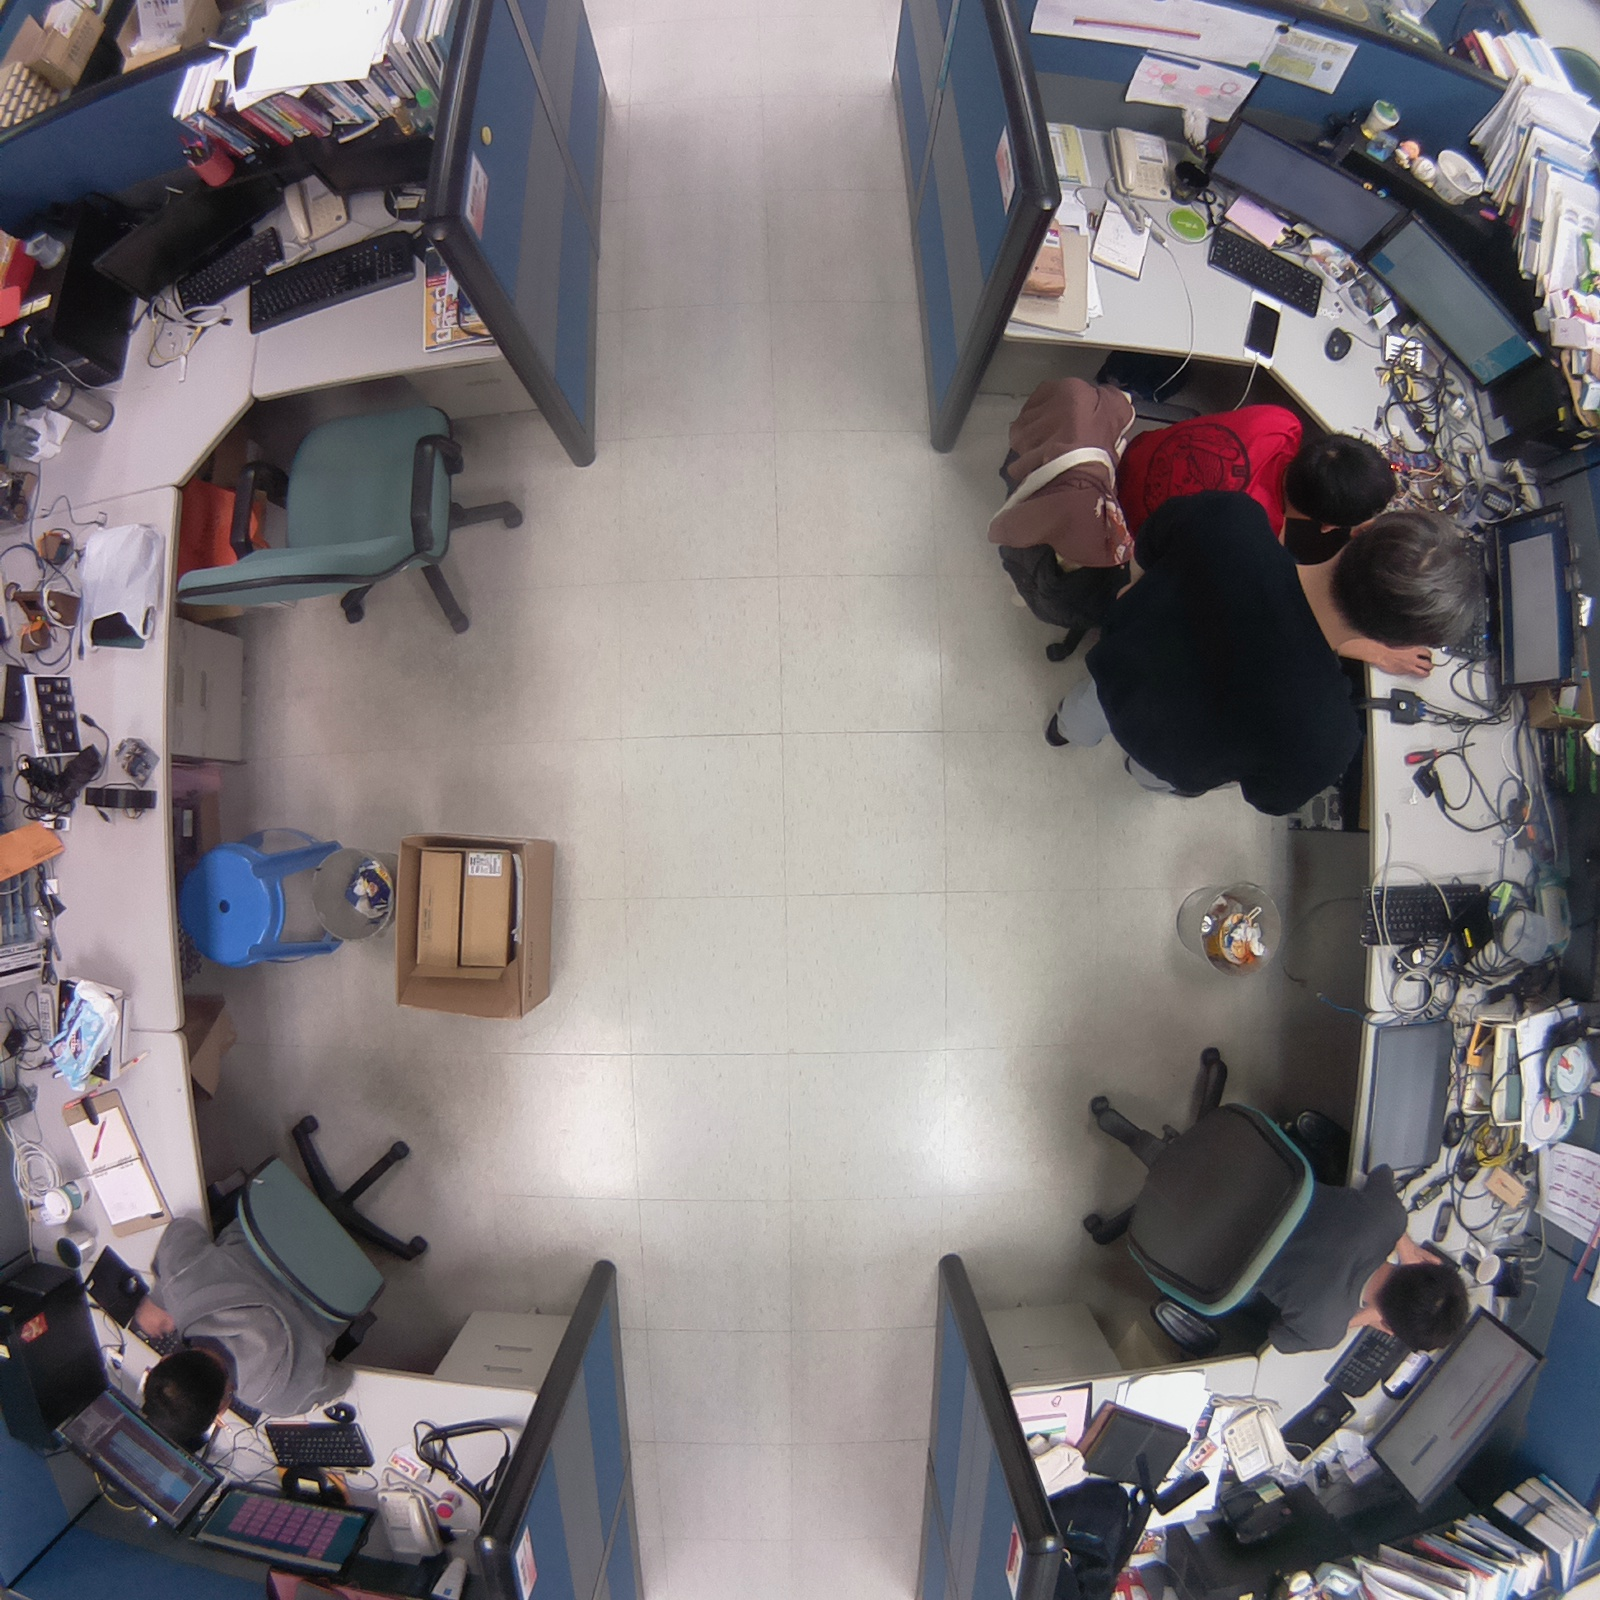chair: (160, 347, 545, 675)
head: (1323, 508, 1499, 667), (1278, 427, 1397, 527), (137, 1341, 237, 1451), (1376, 1255, 1480, 1359)
sitting: (1050, 1027, 1479, 1374), (115, 1088, 445, 1452), (999, 368, 1417, 565)
standing: (1028, 480, 1511, 809)
